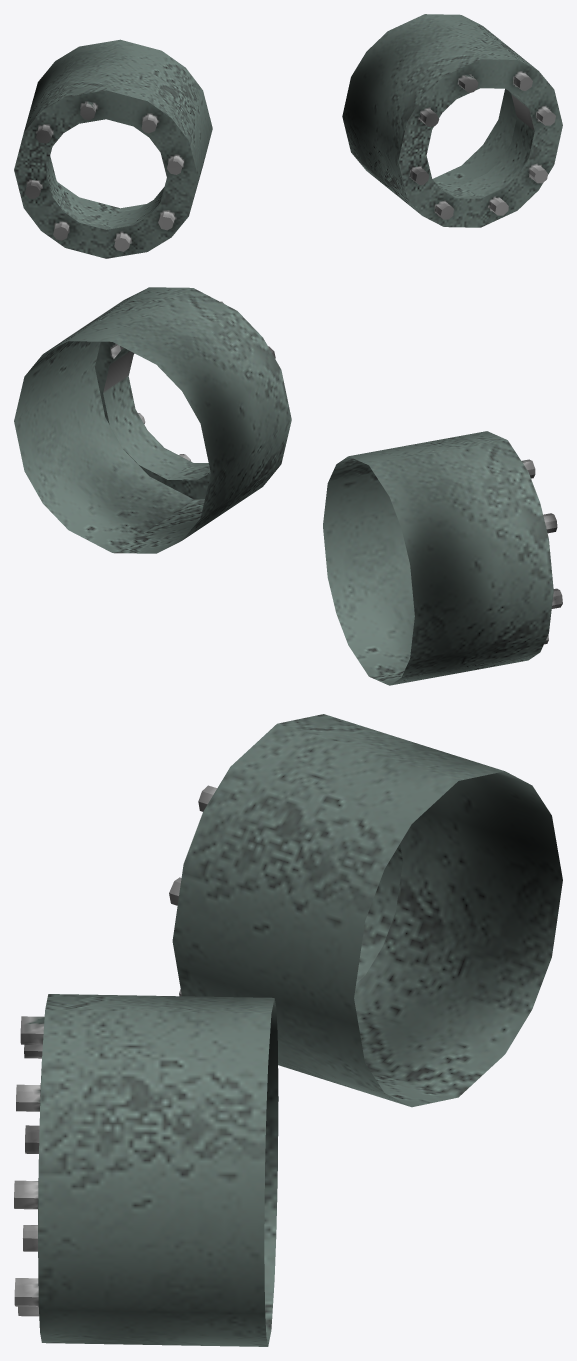
File: object_4_lev3.glb
3 renders of one model, top to bottom at view 1: azimuth 30°, elevation 25°; view 2: azimuth 150°, elevation 25°; view 3: azimuth 270°, elevation 25°, orthographic. The views are drawn at different scales.
Visible parts, largest first — view 1: object_4_lev3; view 2: object_4_lev3; view 3: object_4_lev3.
Part boxes in pixels (box(x1,y1,x2,y2)): object_4_lev3: box(14, 14, 562, 258); object_4_lev3: box(14, 287, 562, 685); object_4_lev3: box(14, 714, 562, 1346).
Size of the model in its own units: 4.7 by 1.64 by 2.58.
1 material, 1 textured.
